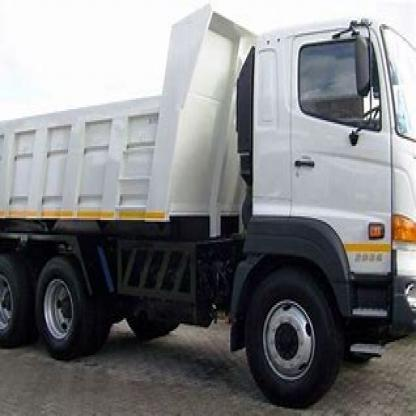dump_truck: (3, 6, 414, 403)
